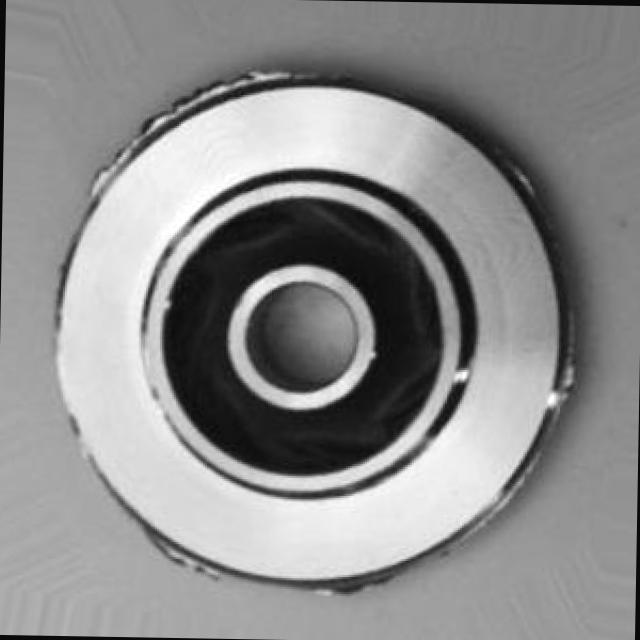Defect: (97, 53, 230, 196)
